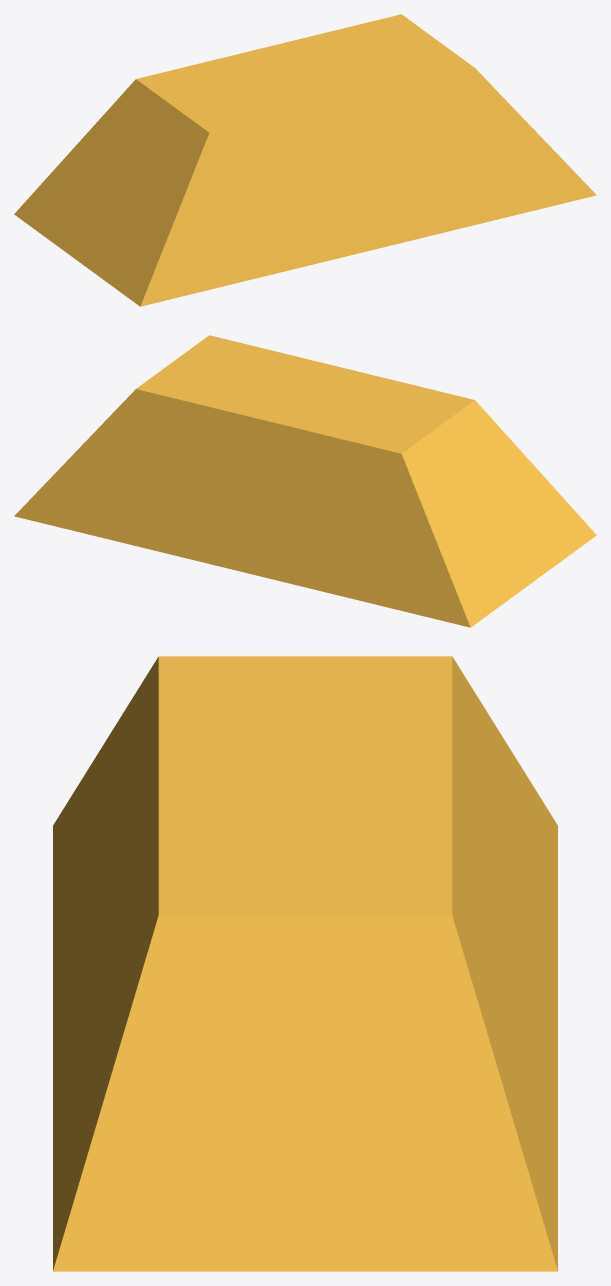
The model's file is gold_bar.glb.
The picture shows the model from 3 angles, top to bottom: view 1: azimuth 30°, elevation 25°; view 2: azimuth 150°, elevation 25°; view 3: azimuth 270°, elevation 25°; orthographic projection. The views are drawn at different scales.
Parts seen in each view (by area): view 1: gold_bar; view 2: gold_bar; view 3: gold_bar.
Boxes of the visible parts, x1,y1,x2,y2 form: gold_bar: (14, 14, 596, 306); gold_bar: (14, 335, 596, 627); gold_bar: (53, 656, 557, 1271).
Bounding box in the file's own units: 0.521 × 0.1431 × 0.2496.
1 material, 1 textured.
